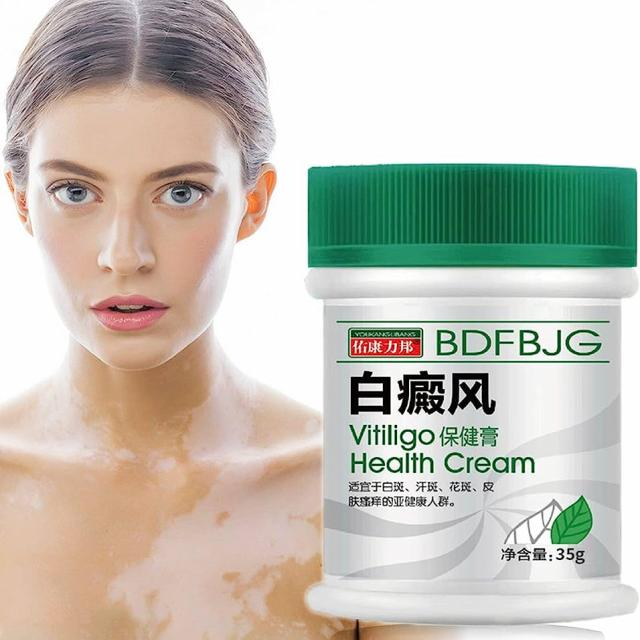vitiligo: (0, 407, 315, 640)
